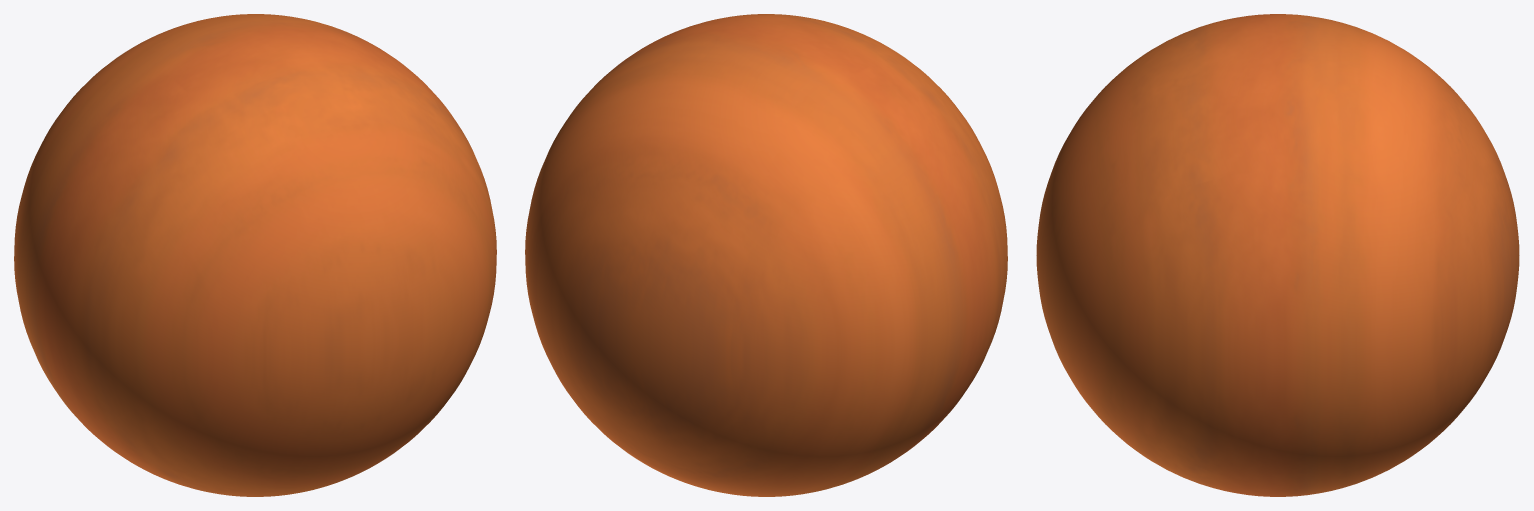
The picture shows the model from 3 angles, left to right: view 1: azimuth 30°, elevation 25°; view 2: azimuth 150°, elevation 25°; view 3: azimuth 270°, elevation 25°; orthographic projection.
Visible parts, largest first — view 1: HD_151450_b; view 2: HD_151450_b; view 3: HD_151450_b.
Boxes of the visible parts, left/top/right/bottom form: HD_151450_b: left=14, top=14, right=496, bottom=496; HD_151450_b: left=525, top=14, right=1007, bottom=496; HD_151450_b: left=1036, top=14, right=1519, bottom=496.
Size of the model in its own units: 2 by 2 by 2.
1 material, 1 textured.
